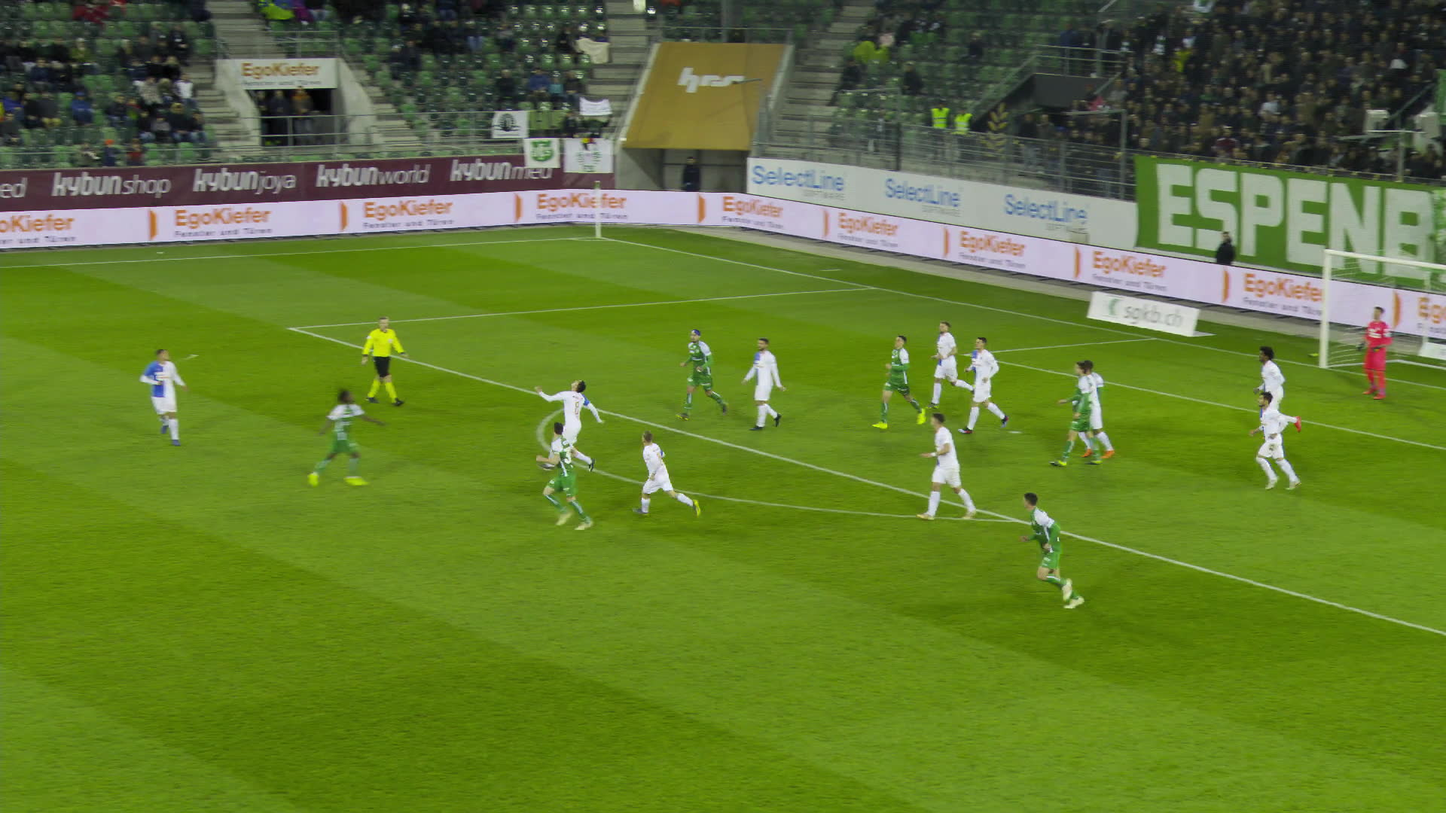ball: (630, 0, 645, 15)
player: (1013, 489, 1084, 607), (293, 395, 368, 488), (535, 421, 596, 531), (536, 381, 606, 467), (914, 413, 967, 520), (871, 335, 925, 428), (1048, 362, 1093, 466), (1245, 392, 1291, 492), (735, 337, 782, 431), (962, 336, 1008, 431), (133, 351, 179, 444), (638, 433, 684, 520), (1064, 363, 1109, 450), (1247, 345, 1286, 438), (1051, 364, 1086, 464), (679, 327, 718, 416), (928, 322, 966, 406), (1353, 306, 1384, 399)
referee: (356, 314, 397, 404)
